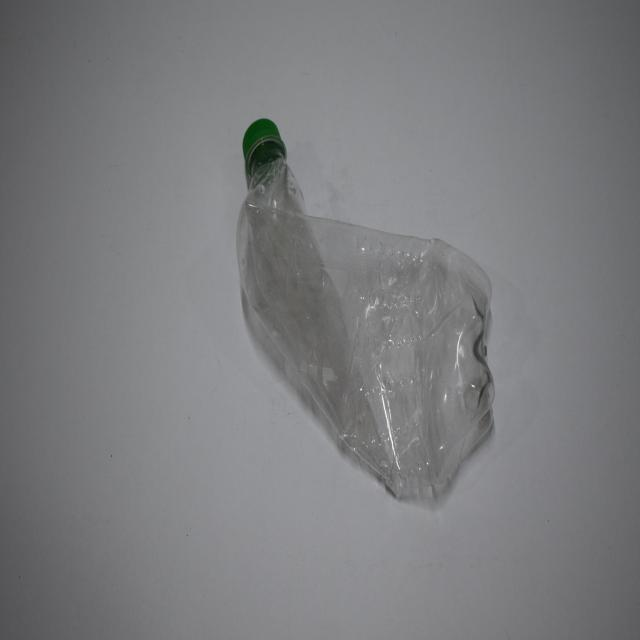bottle: (223, 108, 514, 528)
